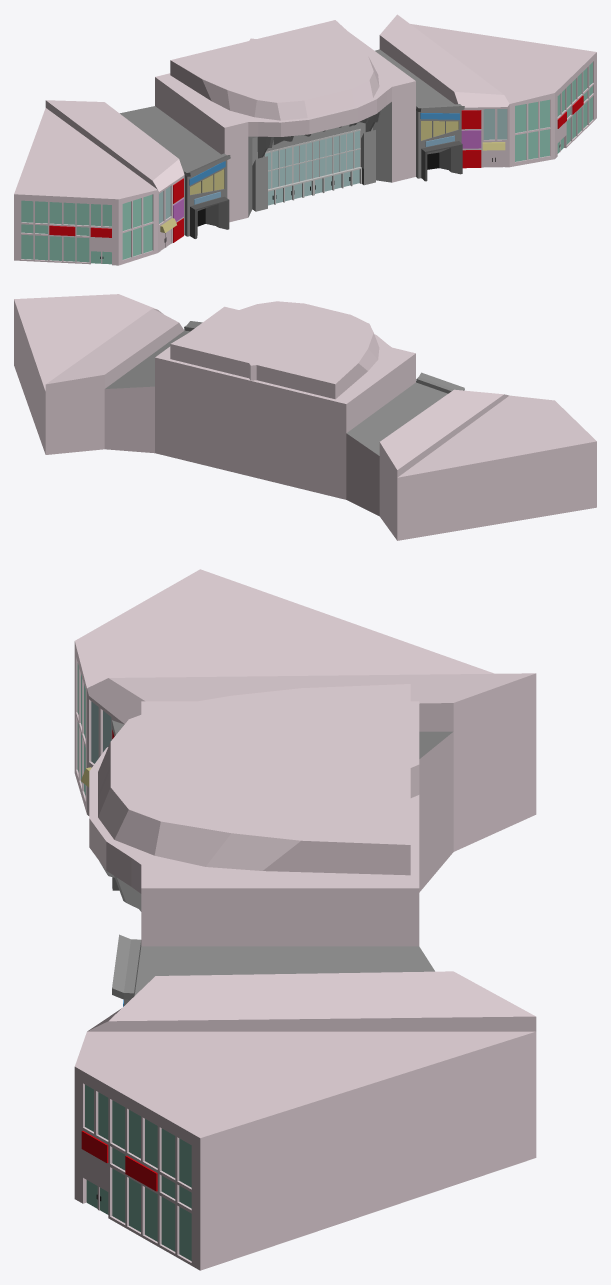
File: Arena.fbx
3 renders of one model, top to bottom at view 1: azimuth 30°, elevation 25°; view 2: azimuth 150°, elevation 25°; view 3: azimuth 270°, elevation 25°, orthographic. The views are drawn at different scales.
Visible parts, largest first — view 1: Cube; view 2: Cube; view 3: Cube.
Boxes of the visible parts, x1,y1,x2,y2 form: Cube: (14,14,596,265); Cube: (14,294,596,540); Cube: (74,569,536,1270).
Size of the model in its own units: 15644 by 2844 by 5362.
